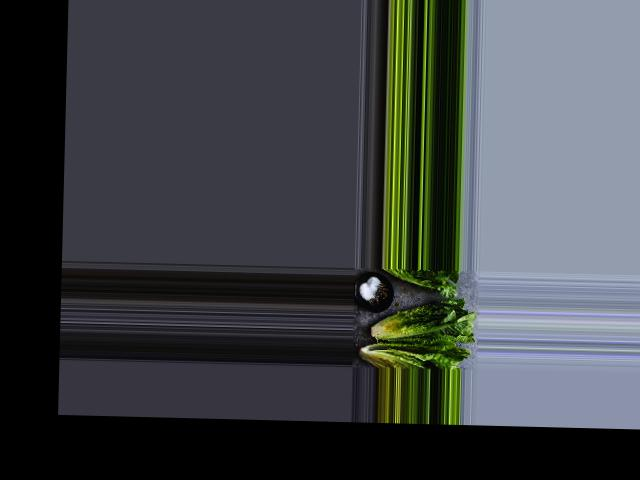lettuce: (352, 338, 461, 369)
